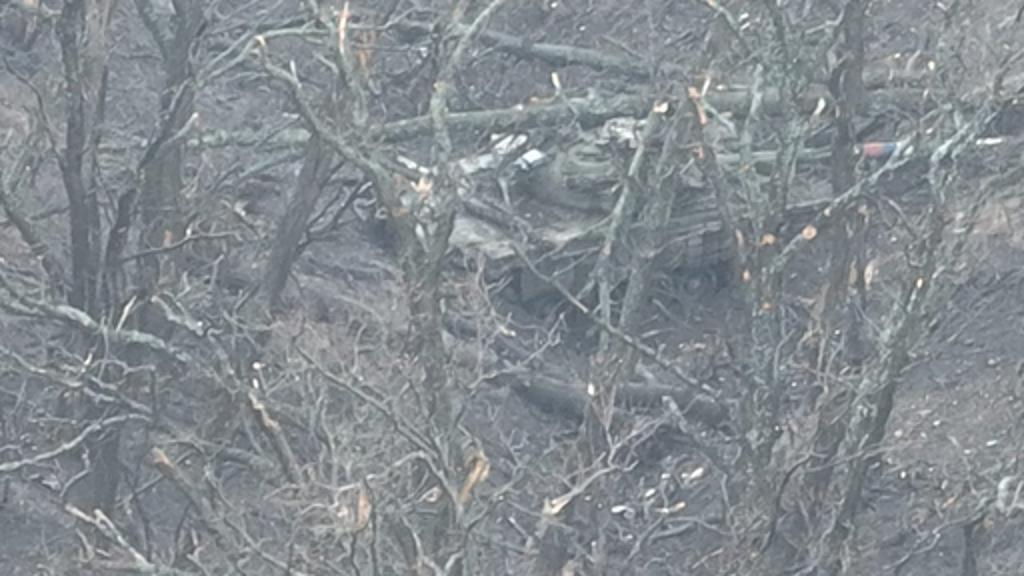TANK: (402, 102, 998, 310)
